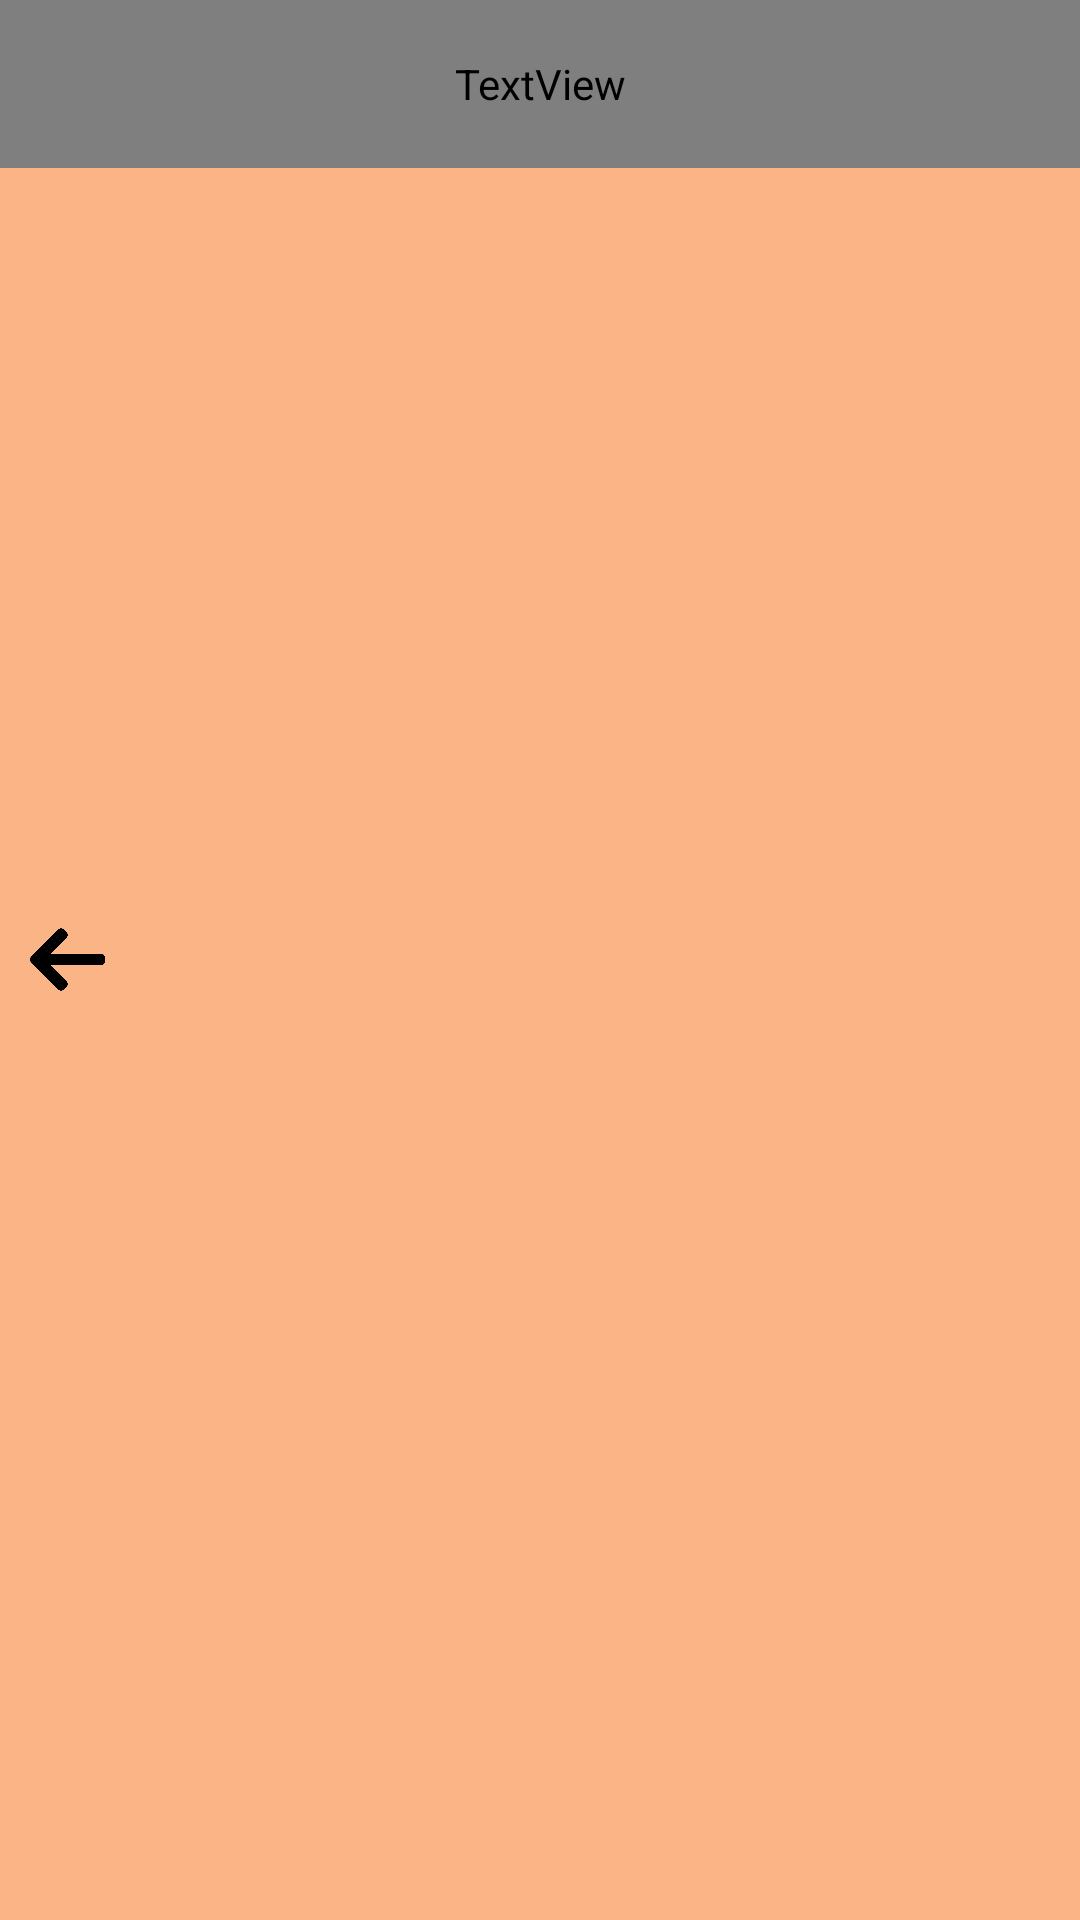

Named icons in this screenshot (1080*1920) and their centers, point (x, y):
left arrow: point (67, 959)
